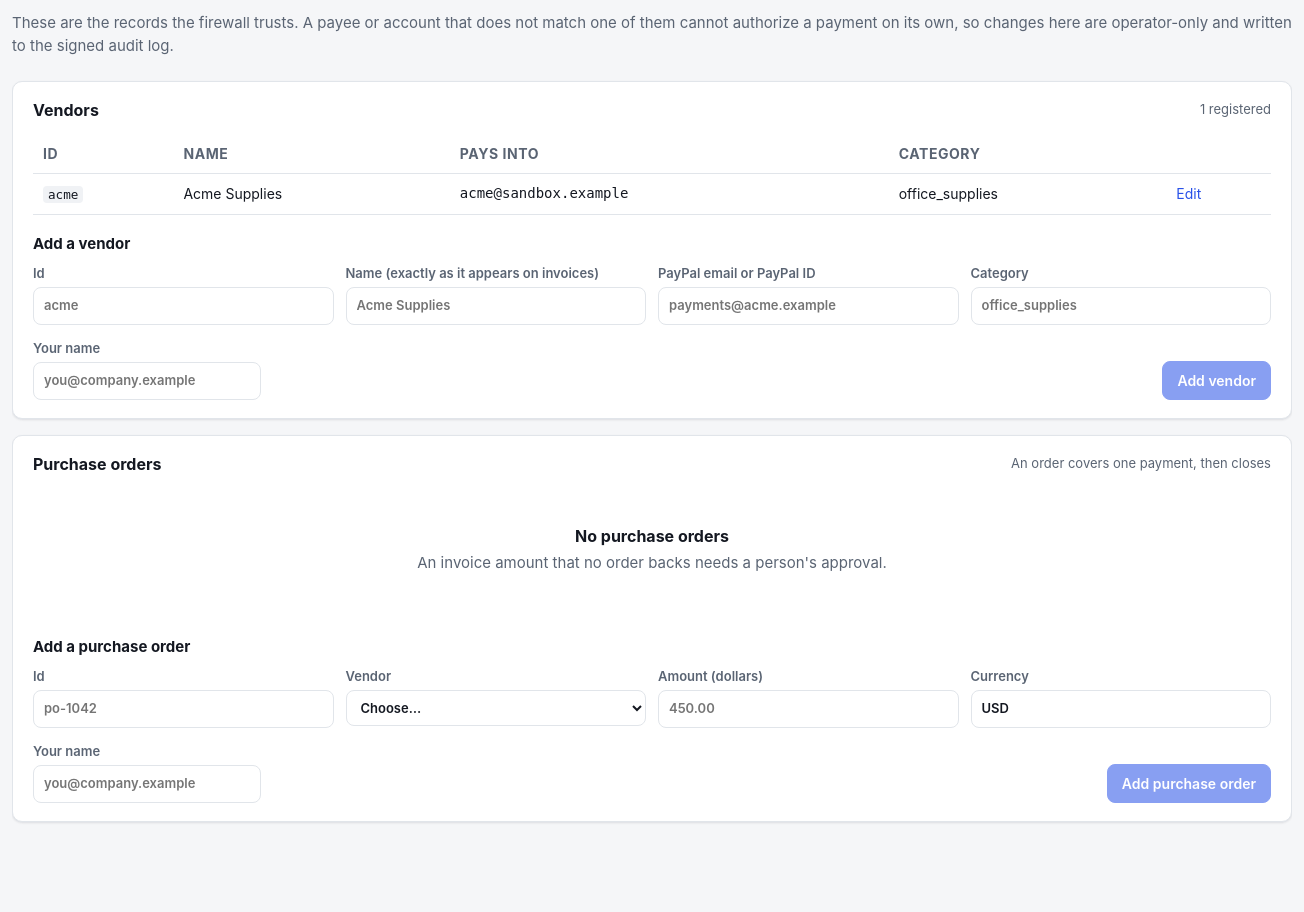
Test: registry: changing where a vendor is paid is a deliberate step › saving without a name is refused before any request
Check: the cell "Acme Supplies" is shown, box [173,174,450,214]
Type "beta" into the field with placeholder "acme" below "Name (exactly as it appears on invoices)".
click(183, 306); type("beta")  # box [33,287,334,325]
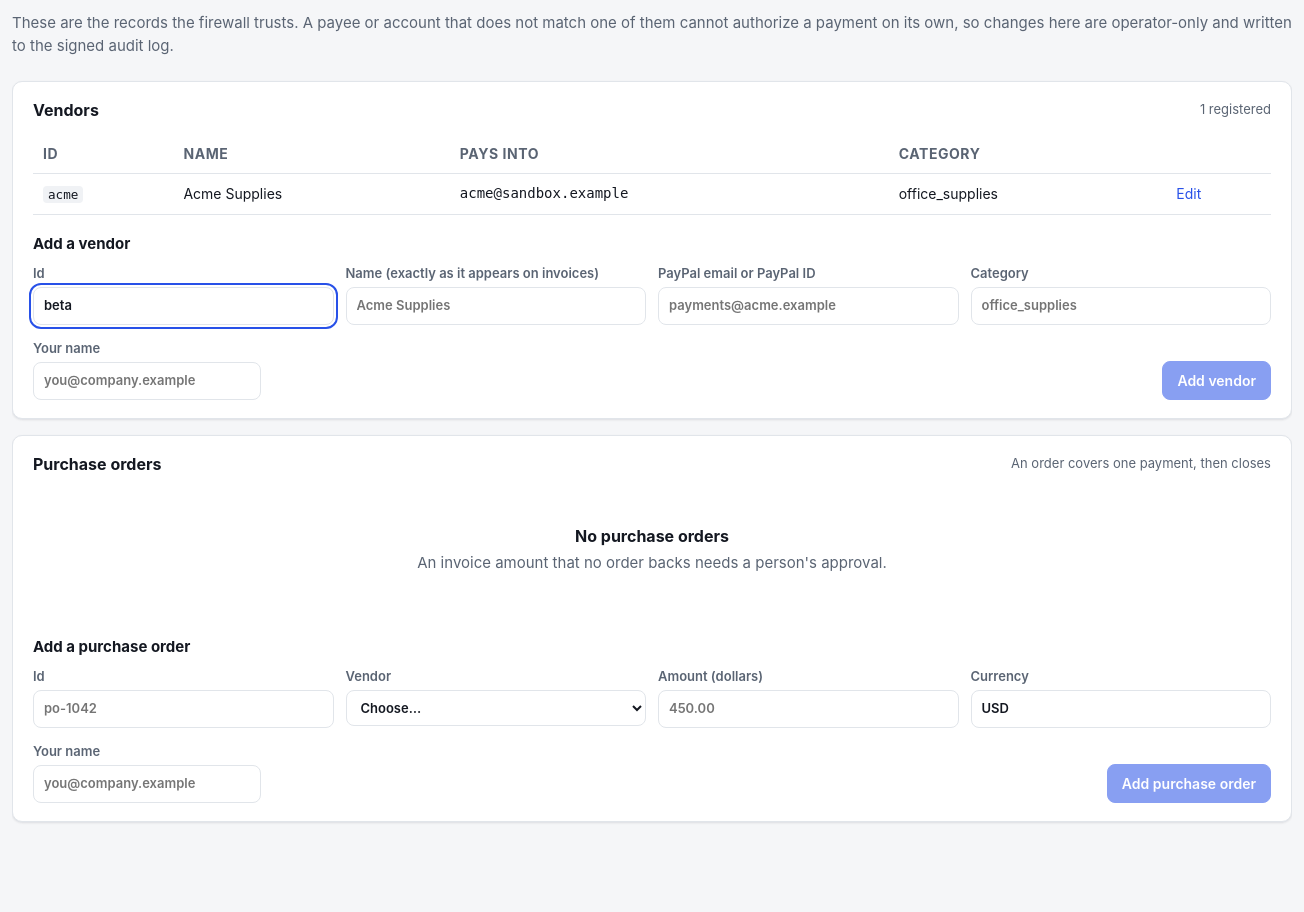
Type "Beta" into the field with placeholder "Acme Supplies".
click(496, 306); type("Beta")  # box [346,287,646,325]
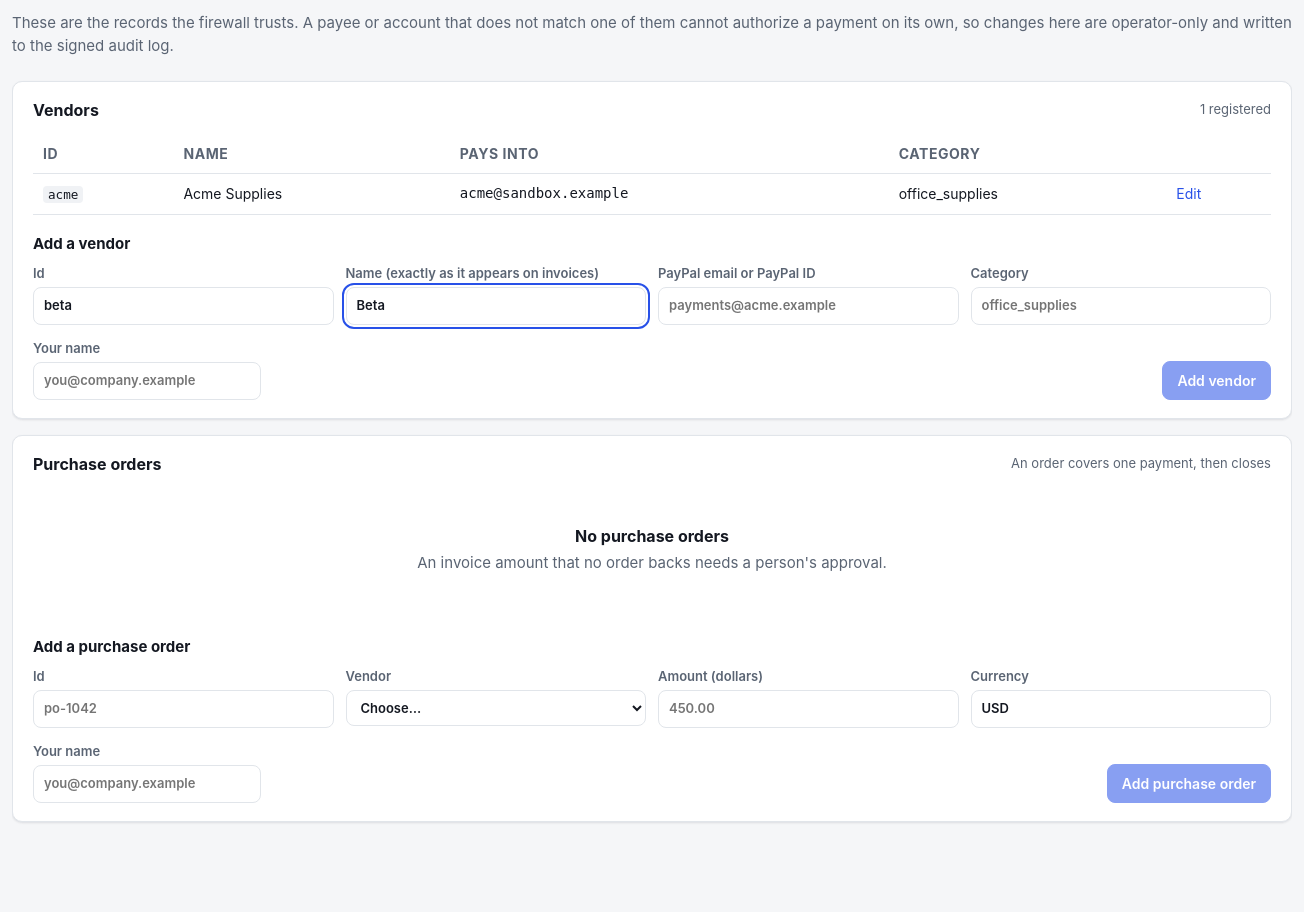
Type "b@x.example" into the field with placeholder "payments@acme.example".
click(808, 306); type("b@x.example")  # box [658,287,958,325]
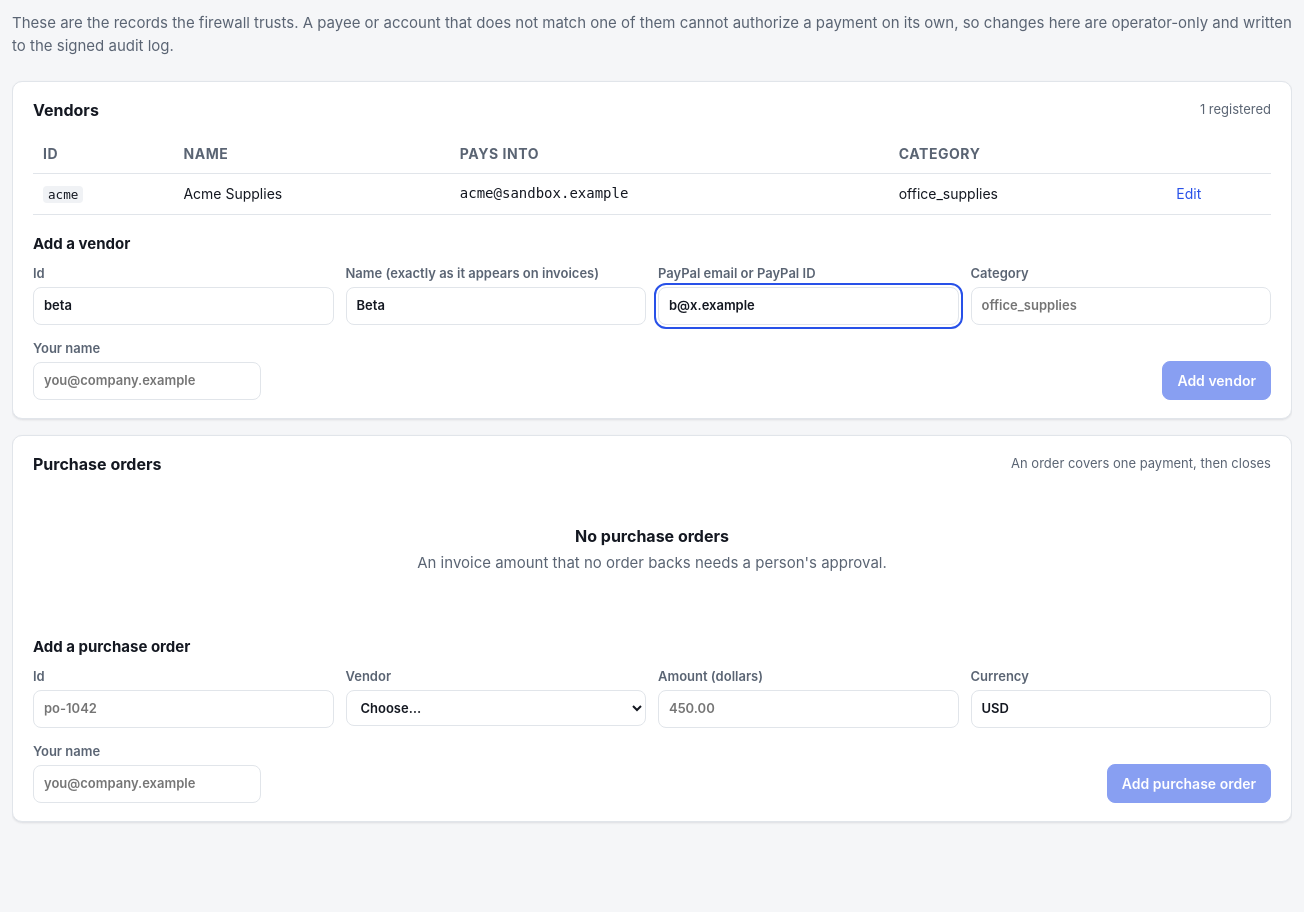
Type "software" into the field with placeholder "office_supplies".
click(1121, 306); type("software")  # box [970,287,1271,325]
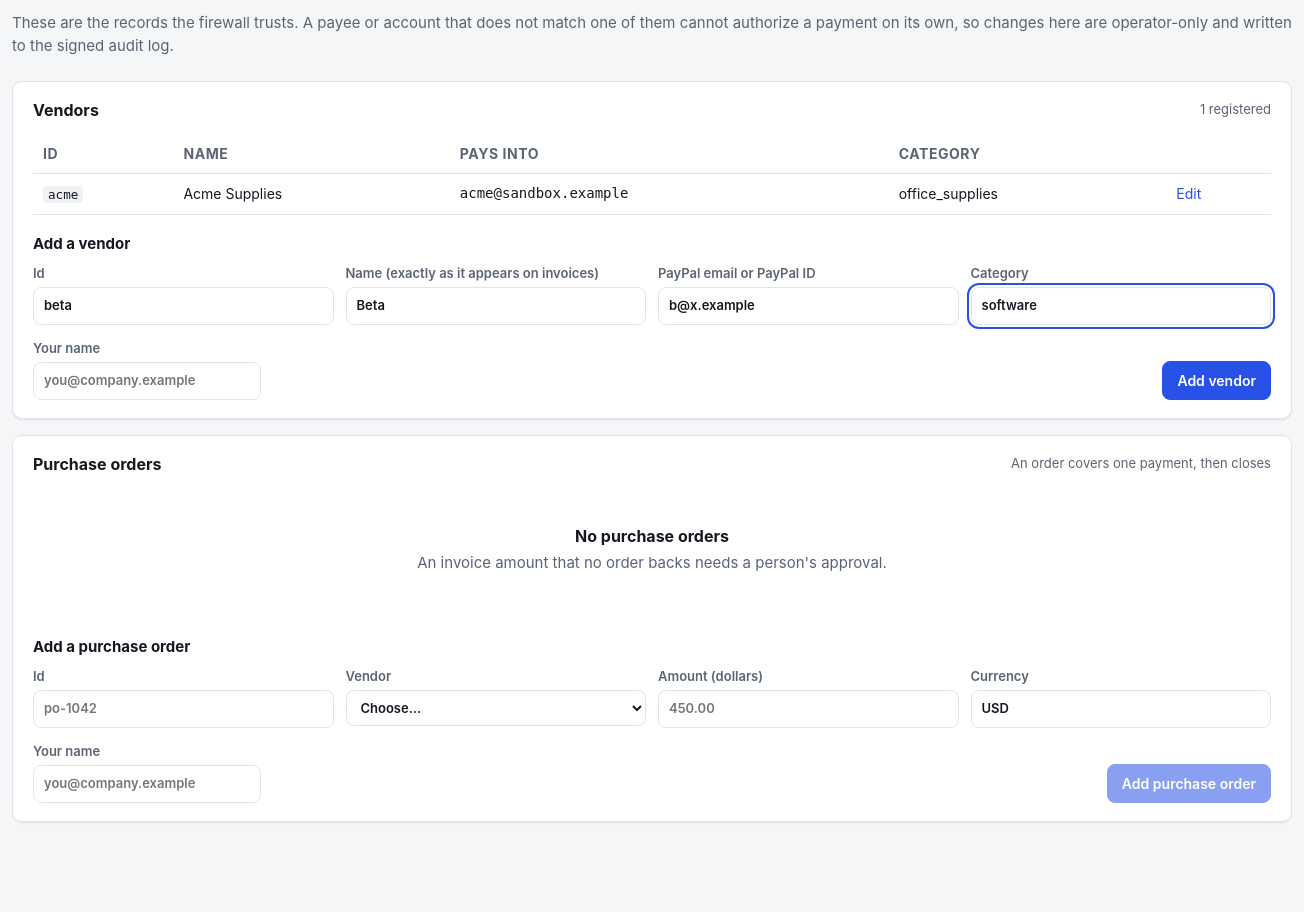
Click the button "Add vendor".
click(1217, 380)  # box [1162,361,1271,400]
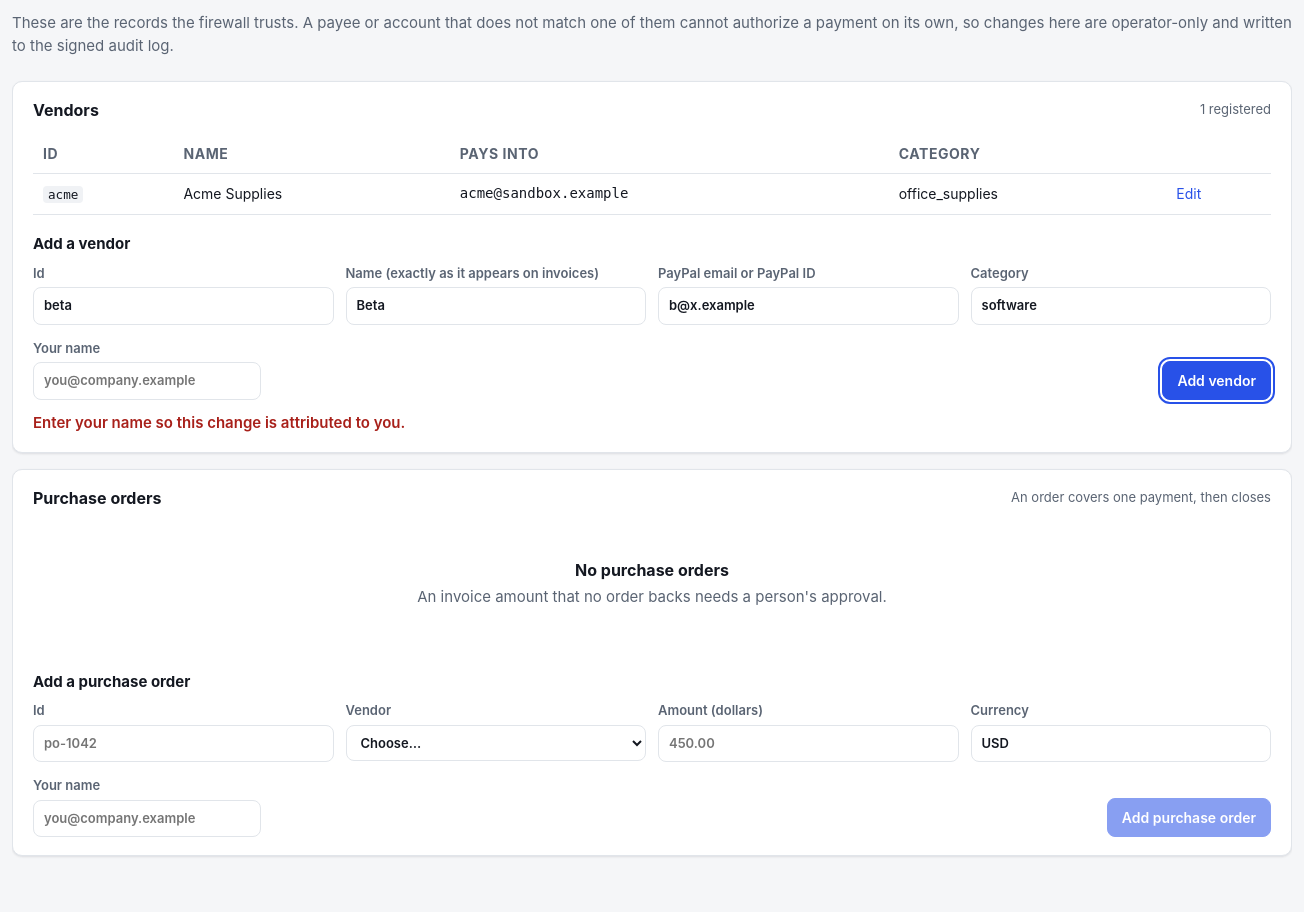
Check: the text "Enter your name so this change is attributed to you." is shown, box [33,413,405,432]
